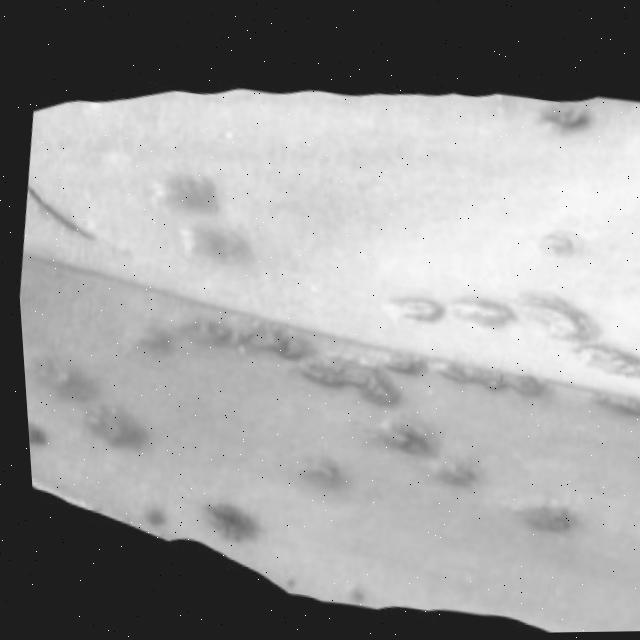mite: (105, 159, 294, 552), (138, 161, 260, 277), (119, 317, 173, 360), (381, 290, 440, 326), (534, 225, 578, 260), (132, 500, 162, 528)
spots: (16, 21, 640, 635)
